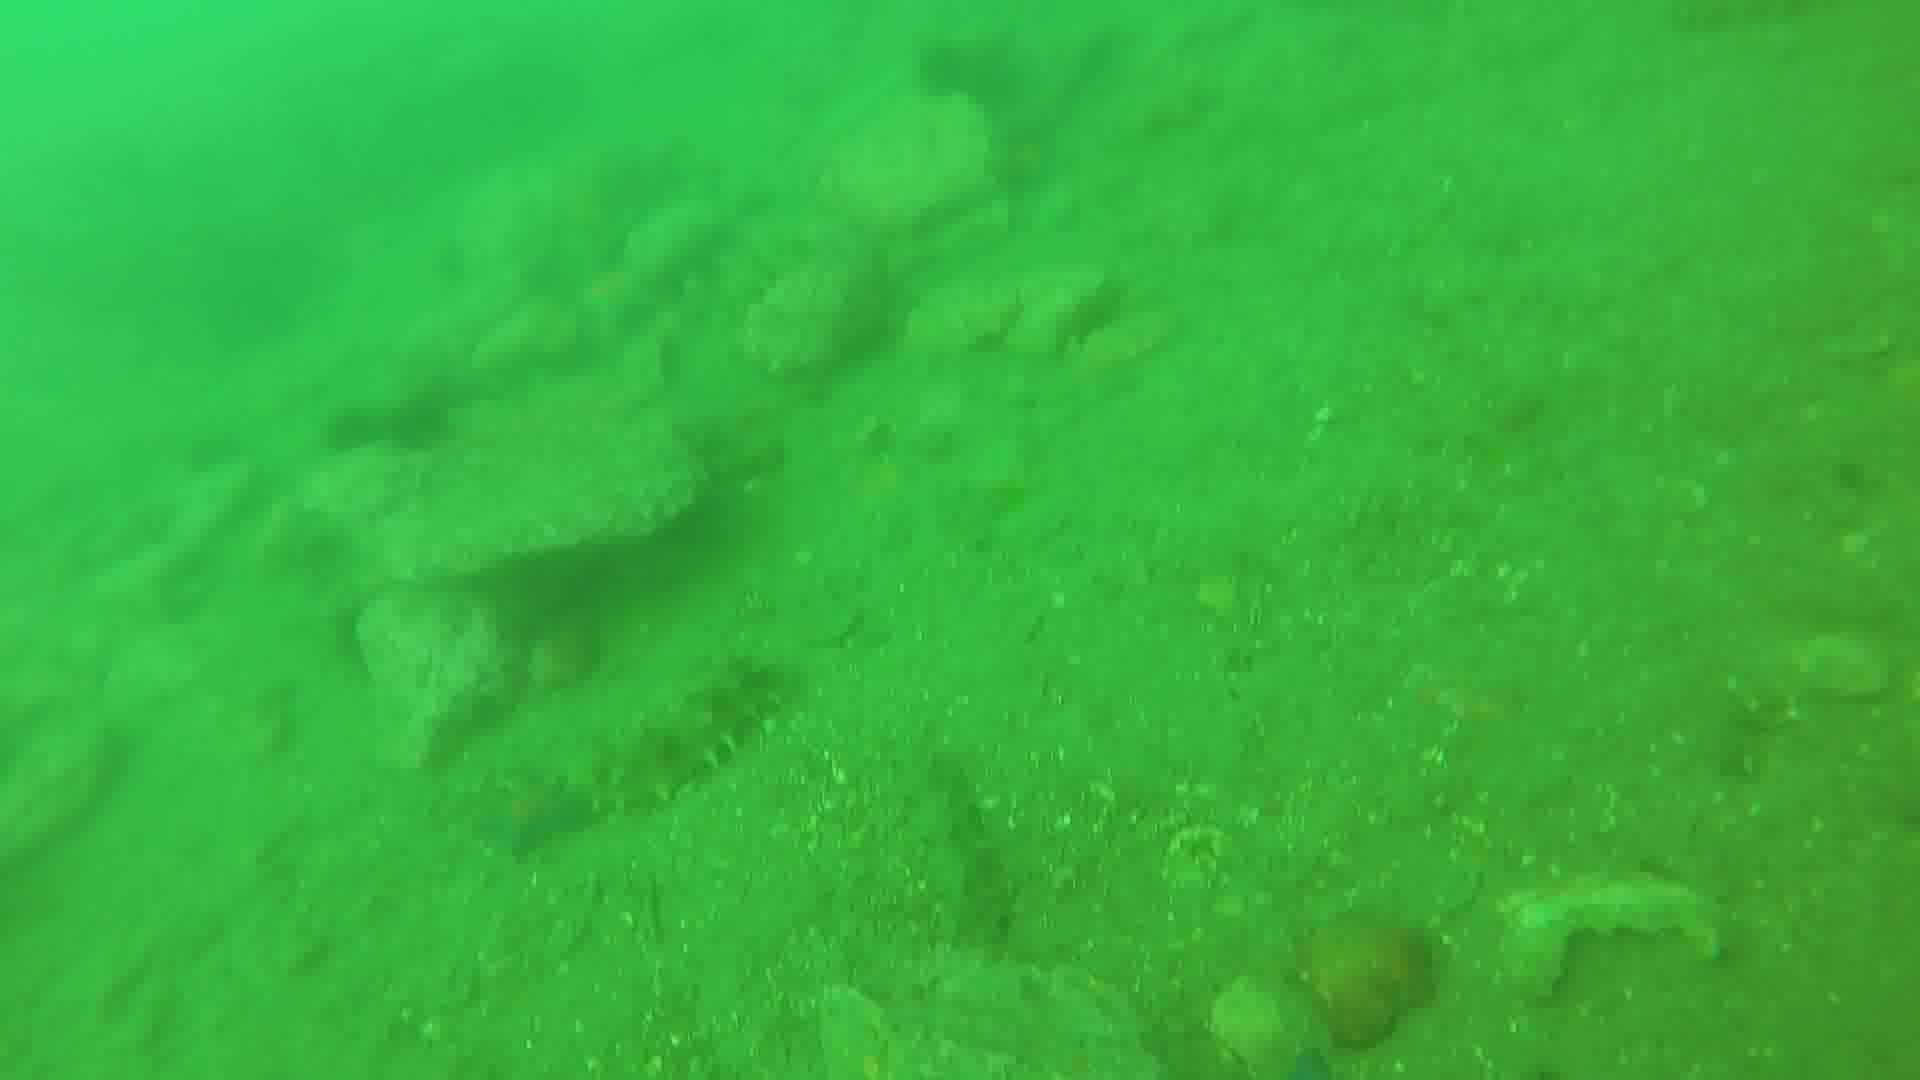holothurian: (583, 663, 789, 811), (873, 744, 1004, 948)
starfish: (435, 769, 596, 858)
